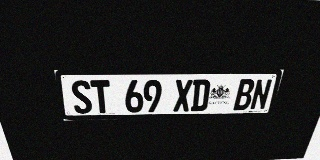6: (124, 80, 143, 113)
9: (144, 80, 162, 112)
B: (233, 79, 256, 110)
D: (190, 79, 211, 111)
N: (249, 79, 273, 110)
S: (70, 80, 93, 114)
T: (90, 80, 112, 113)
X: (173, 79, 193, 112)
